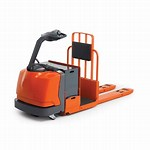Pallet Jack: (13, 28, 135, 120)
